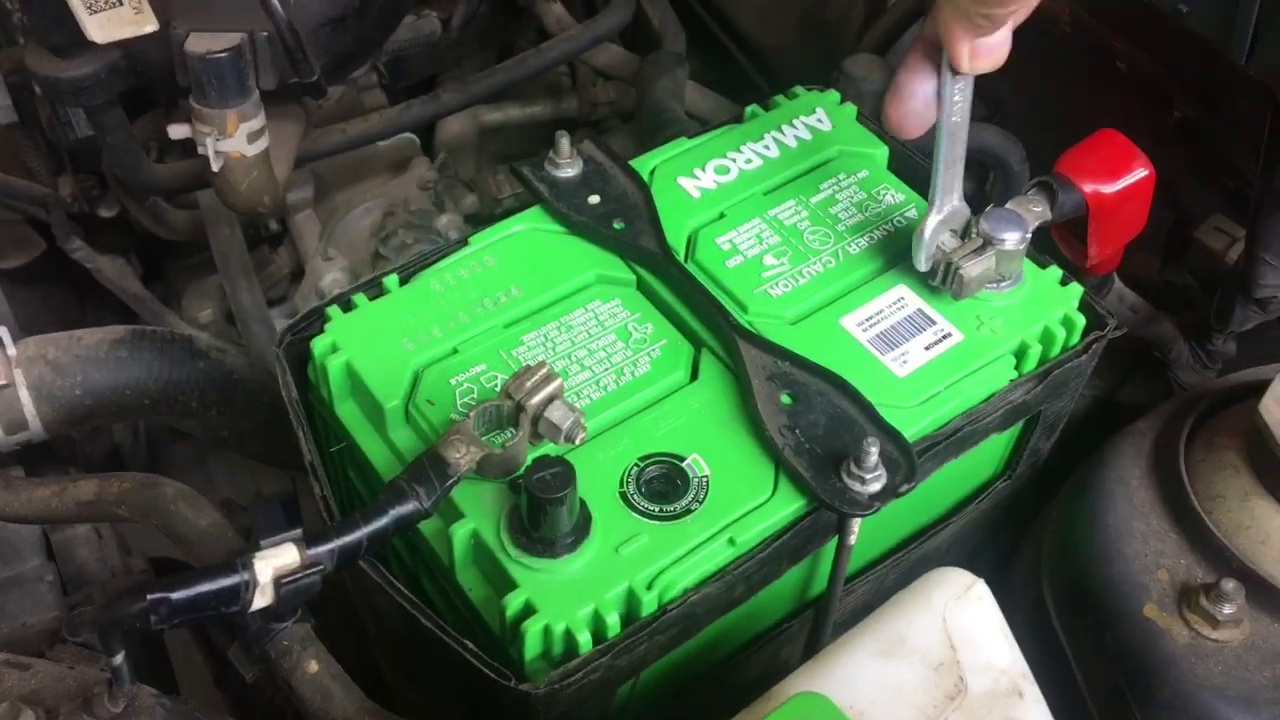battery: (315, 102, 1094, 633)
pos_connected: (917, 151, 1141, 314)
